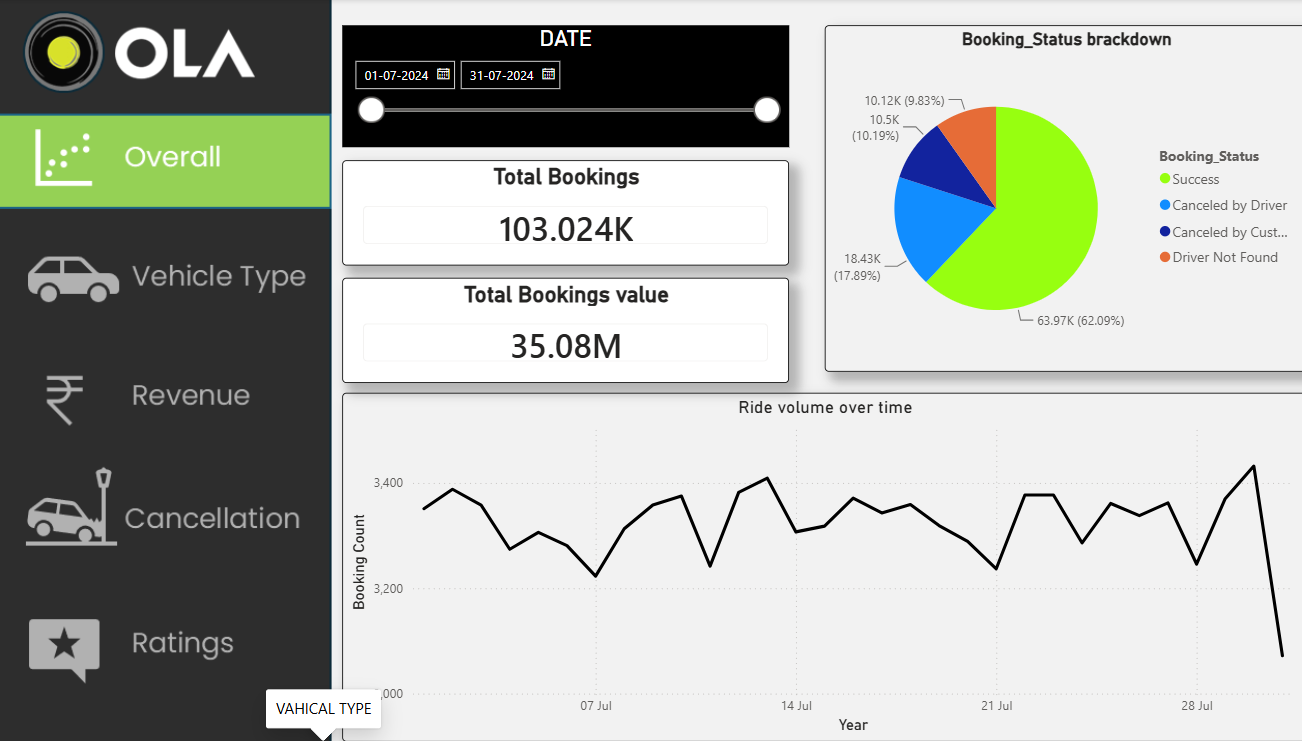

The page's visual inventory and layout, read from the dashboard file:
{"tool":"powerbi","page":{"name":"Overall","canvas":[1280,720],"ordinal":0},"visuals":[{"type":"actionButton","box":[0,211.1,322.1,92.9],"z":0},{"type":"actionButton","box":[0,333,322.1,92.9],"z":1000},{"type":"actionButton","box":[0,450,322.1,92.9],"z":2000},{"type":"actionButton","box":[0,453.6,322.1,92.9],"z":3000},{"type":"actionButton","box":[0,581.5,322.1,85.7],"z":4000},{"type":"actionButton","box":[0,109.8,322.1,92.9],"z":5000},{"type":"lineChart","title":"Ride volume over time ","fields":{"Y":["CountNonNull(ola ola_d.Booking_ID)"],"Category":["ola ola_d.Date.Variation.Date Hierarchy.Year","ola ola_d.Date.Variation.Date Hierarchy.Quarter","ola ola_d.Date.Variation.Date Hierarchy.Month","ola ola_d.Date.Variation.Date Hierarchy.Day"]},"box":[334.3,380,931.4,337.1],"z":6000},{"type":"pieChart","title":" Booking_Status brackdown ","fields":{"Category":["ola ola_d.Booking_Status"],"Y":["CountNonNull(ola ola_d.Booking_Status)"]},"box":[800,25.7,465.7,334.3],"z":7000},{"type":"slicer","title":"DATE","fields":{"Values":["ola ola_d.Date"]},"box":[334.3,25.7,431.4,117.1],"z":8000},{"type":"cardVisual","title":"Total Bookings ","fields":{"Data":["CountNonNull(ola ola_d.Booking_ID)"]},"box":[334.3,155.7,431.4,101.4],"z":9000},{"type":"cardVisual","title":"Total Bookings value ","fields":{"Data":["Sum(ola ola_d.Booking_Value)"]},"box":[334.3,268.6,431.4,101.4],"z":10000}]}

Visuals, with their boxes in screenshot pixels (x1, y1, x2, y2), scaled from the page's 1280x720 canvas onto the 1302x741 screenshot:
actionButton: [left=0, top=217, right=328, bottom=313]
actionButton: [left=0, top=343, right=328, bottom=438]
actionButton: [left=0, top=463, right=328, bottom=559]
actionButton: [left=0, top=467, right=328, bottom=562]
actionButton: [left=0, top=598, right=328, bottom=687]
actionButton: [left=0, top=113, right=328, bottom=209]
"Ride volume over time " lineChart: [left=340, top=391, right=1287, bottom=738]
" Booking_Status brackdown " pieChart: [left=814, top=26, right=1287, bottom=370]
"DATE" slicer: [left=340, top=26, right=779, bottom=147]
"Total Bookings " cardVisual: [left=340, top=160, right=779, bottom=265]
"Total Bookings value " cardVisual: [left=340, top=276, right=779, bottom=381]
